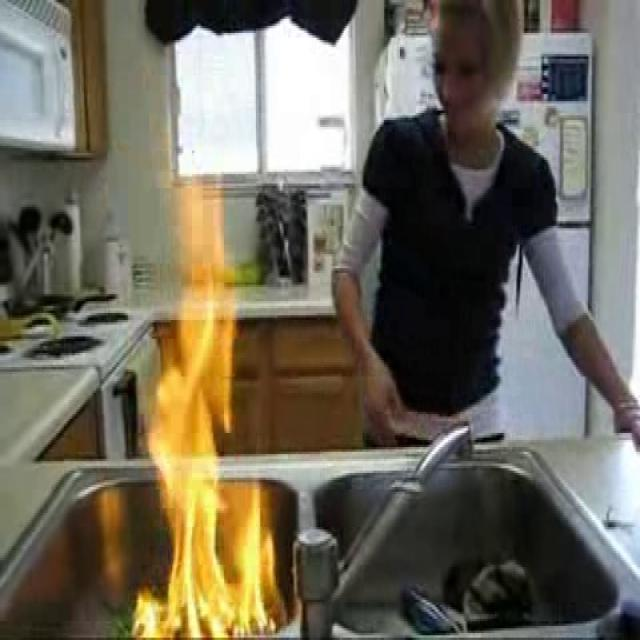fire: (145, 174, 252, 636)
